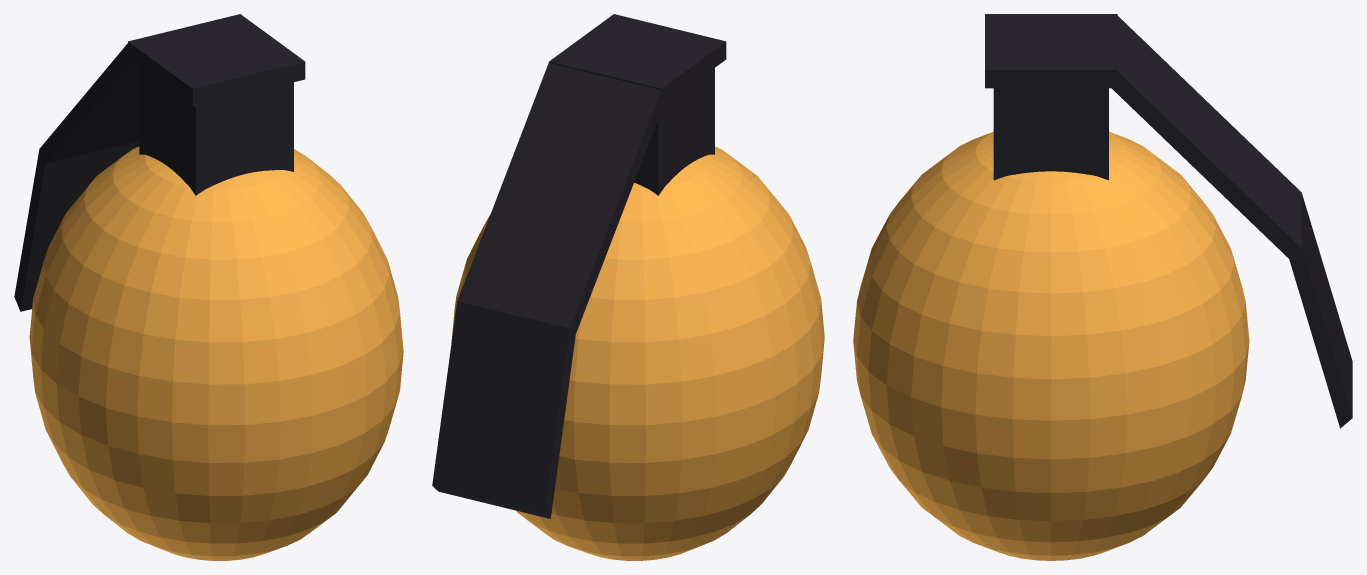
Rendered from GoldenGranate.fbx.
3 renders of one model, left to right at view 1: azimuth 30°, elevation 25°; view 2: azimuth 150°, elevation 25°; view 3: azimuth 270°, elevation 25°, orthographic. The views are drawn at different scales.
Visible parts, largest first — view 1: Sphere, Cube, Cube.002, Cube.001; view 2: Sphere, Cube.002, Cube.001, Cube; view 3: Sphere, Cube.002, Cube, Cube.001.
Boxes of the visible parts, box(x1,y1,x2,y2) form: Sphere: box(29, 146, 403, 560); Cube: box(139, 68, 293, 195); Cube.002: box(14, 43, 139, 311); Cube.001: box(128, 14, 305, 106); Sphere: box(451, 146, 824, 560); Cube.002: box(432, 62, 663, 518); Cube.001: box(549, 14, 726, 106); Cube: box(634, 68, 714, 195); Sphere: box(853, 131, 1249, 560); Cube.002: box(1104, 16, 1352, 428); Cube: box(993, 88, 1108, 180); Cube.001: box(985, 14, 1117, 88).
Bounding box in the file's own units: 374 × 552 × 496.
